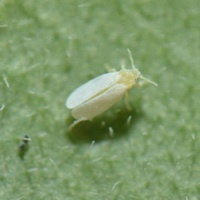insect: (66, 48, 156, 128)
